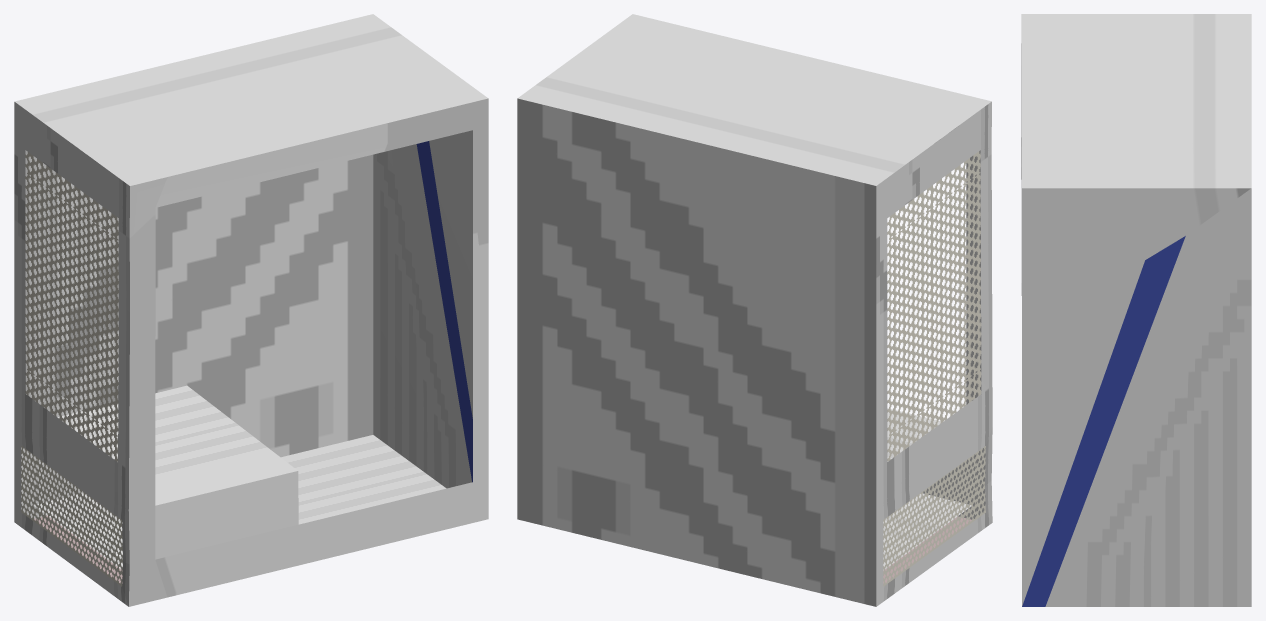
The model's file is Gab_G.fbx.
3 renders of one model, left to right at view 1: azimuth 30°, elevation 25°; view 2: azimuth 150°, elevation 25°; view 3: azimuth 270°, elevation 25°, orthographic.
Parts seen in each view (by area): view 1: GabGrande, GradeGrande; view 2: GabGrande, GradeGrande; view 3: GabGrande.
Boxes of the visible parts, bbox=[...] form: GabGrande: bbox=[14, 14, 488, 606]; GradeGrande: bbox=[21, 152, 122, 586]; GabGrande: bbox=[517, 14, 992, 606]; GradeGrande: bbox=[883, 151, 985, 586]; GabGrande: bbox=[1021, 14, 1251, 606].
Size of the model in its own units: 2199 by 2452 by 1221.
